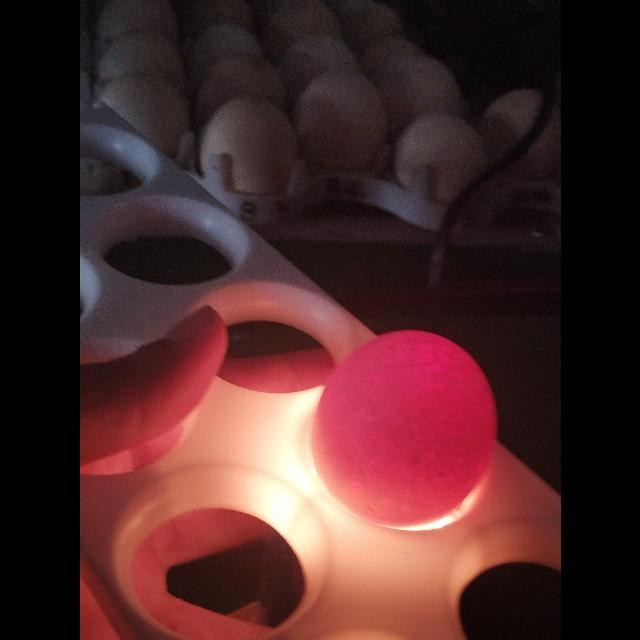Fertile: (318, 322, 497, 524)
